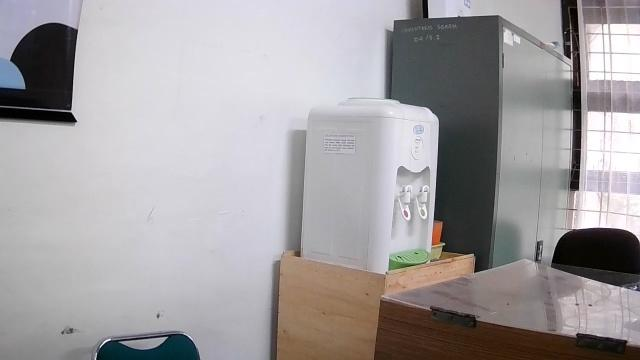Dispenser: (300, 97, 438, 272)
Lemari: (485, 13, 573, 269)
